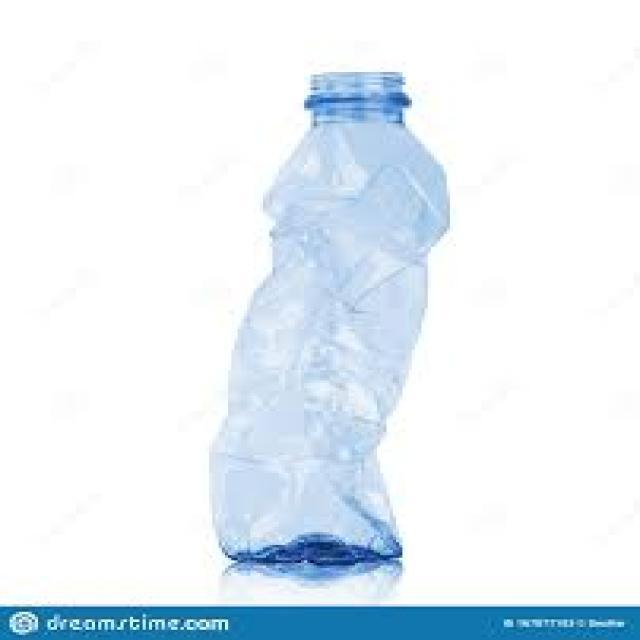bottle: (202, 54, 468, 576)
